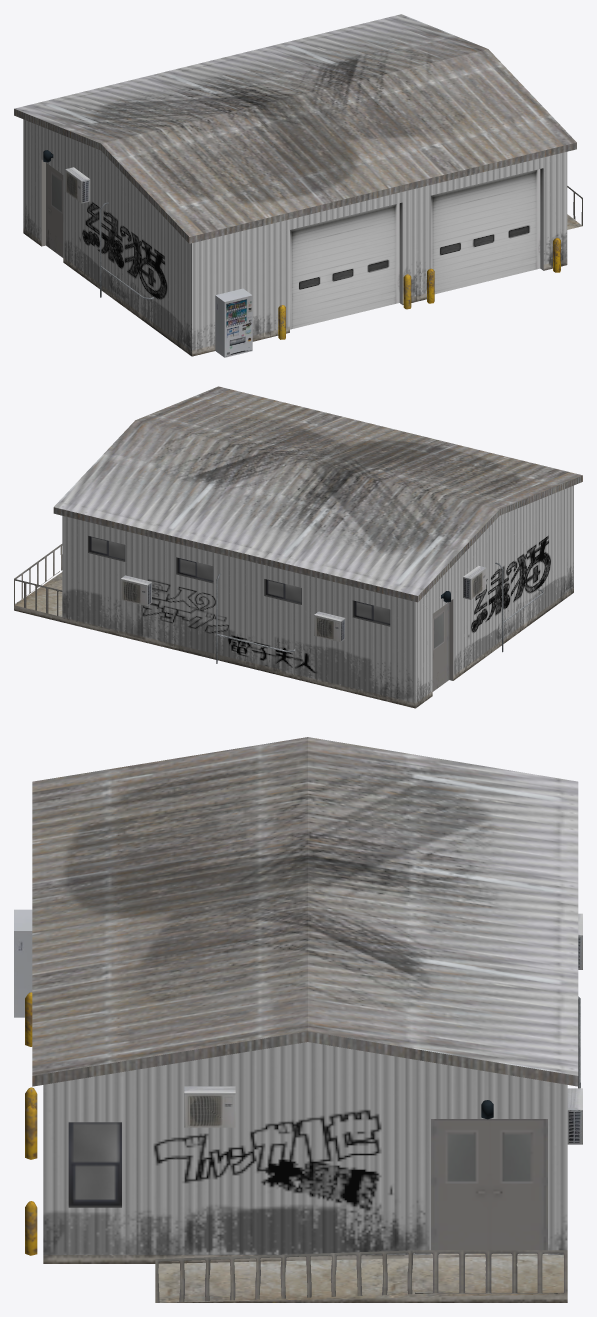
Rendered from PSX Japanese Warehouse.fbx.
The picture shows the model from 3 angles, top to bottom: view 1: azimuth 30°, elevation 25°; view 2: azimuth 150°, elevation 25°; view 3: azimuth 270°, elevation 25°; orthographic projection. The views are drawn at different scales.
Visible parts, largest first — view 1: PSX Warehouse, Props; view 2: PSX Warehouse, Props; view 3: PSX Warehouse, Props.
Part boxes in pixels (left/top/right/bottom): PSX Warehouse: left=14, top=14, right=582, bottom=356; Props: left=65, top=167, right=252, bottom=357; PSX Warehouse: left=14, top=386, right=582, bottom=708; Props: left=120, top=562, right=543, bottom=663; PSX Warehouse: left=25, top=737, right=578, bottom=1302; Props: left=14, top=909, right=582, bottom=1144.
Size of the model in its own units: 799 by 267 by 581.
